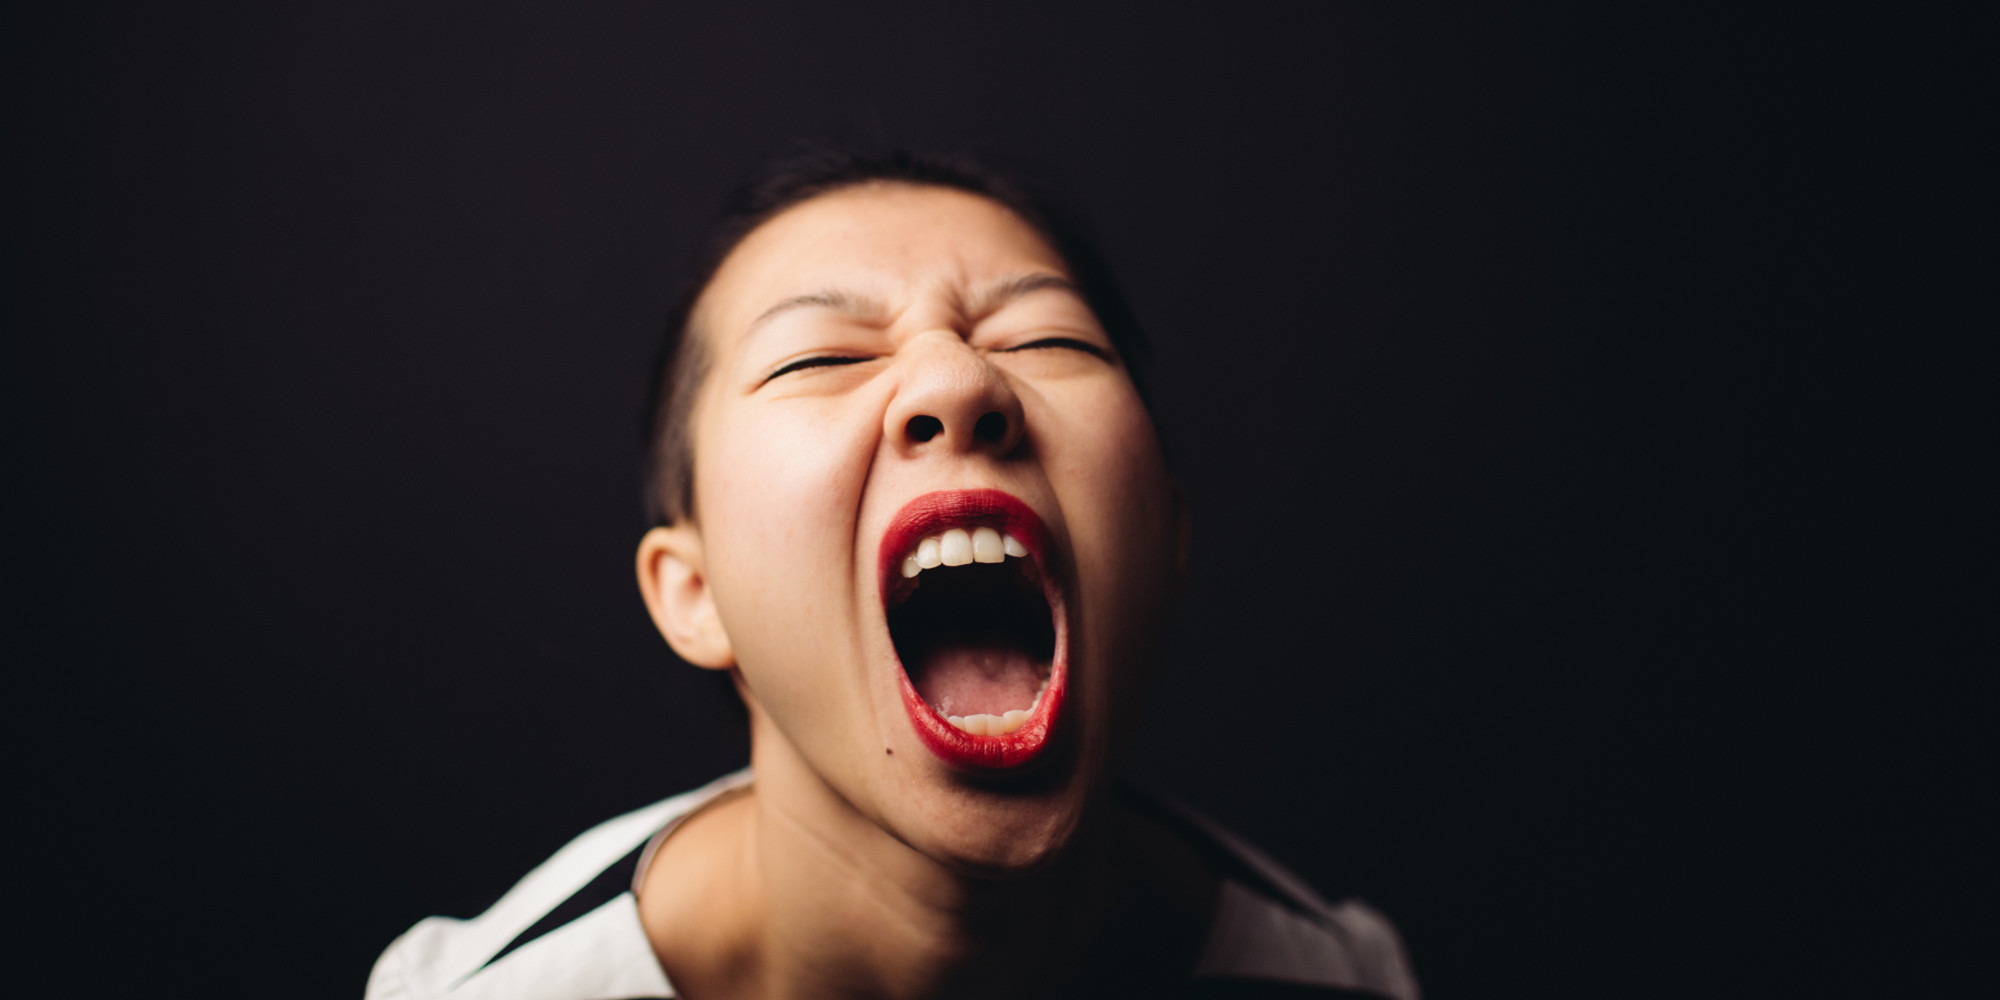anger: (686, 164, 1149, 869)
